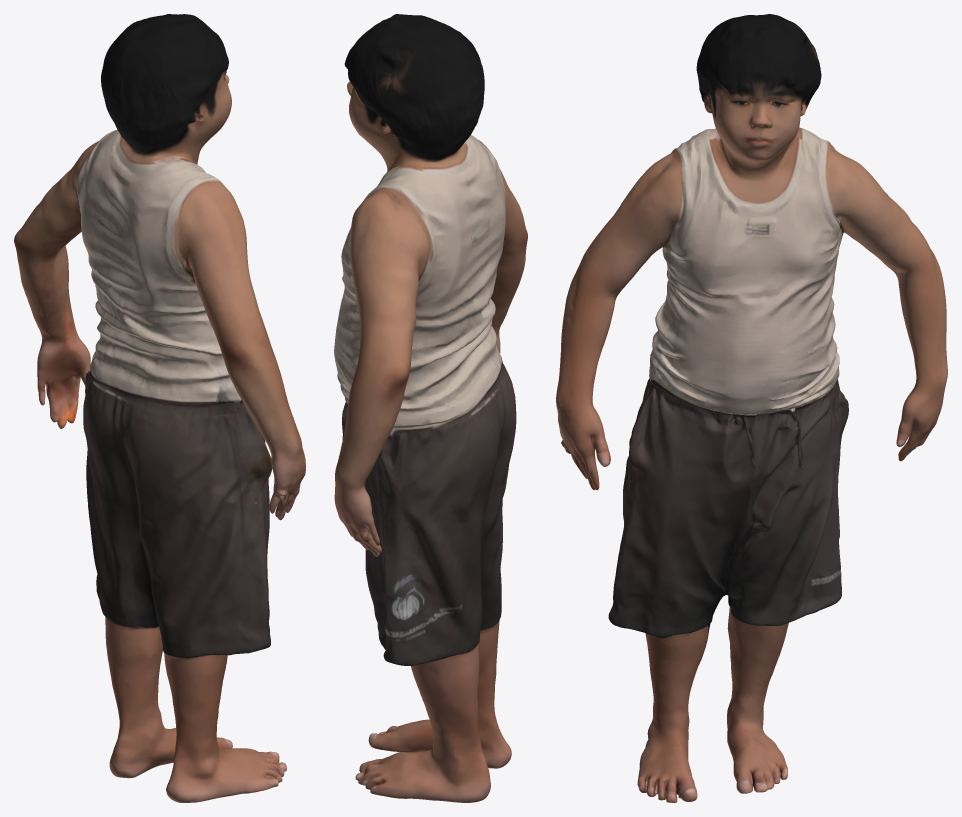
The model's file is boy+character+3d+model.fbx.
3 views of the same model, side by side, from view 1: azimuth 30°, elevation 25°; view 2: azimuth 150°, elevation 25°; view 3: azimuth 270°, elevation 25° (orthographic). The views are drawn at different scales.
Parts seen in each view (by area): view 1: tripo_node_e5499fc1; view 2: tripo_node_e5499fc1; view 3: tripo_node_e5499fc1.
Part boxes in pixels (<box>): tripo_node_e5499fc1: <box>14,14,305,802</box>; tripo_node_e5499fc1: <box>334,14,527,802</box>; tripo_node_e5499fc1: <box>556,14,947,802</box>.
Size of the model in its own units: 0.216 by 1 by 0.4761.
Materials: 1 (1 with a texture image).
